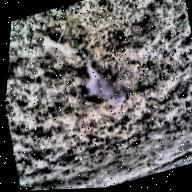boar: (67, 54, 135, 118)
